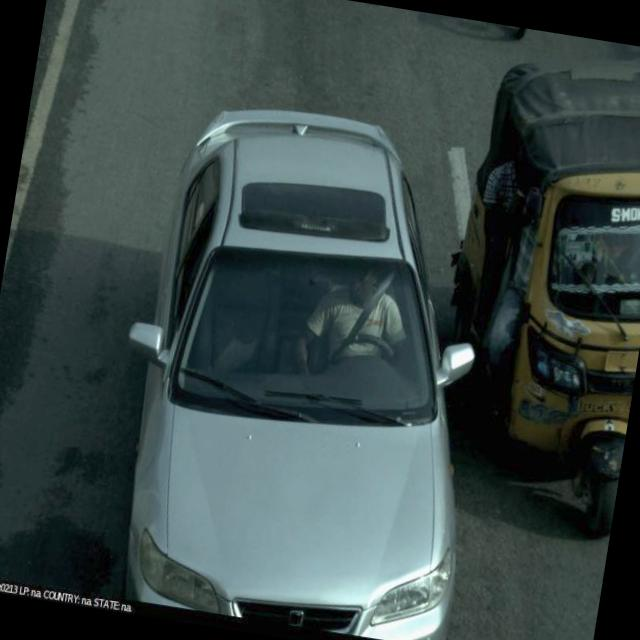person_with_seatbelt: (296, 264, 418, 388)
